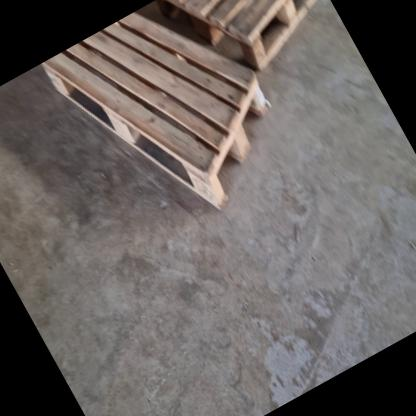BoxFace: (41, 10, 270, 210), (159, 0, 315, 72)
